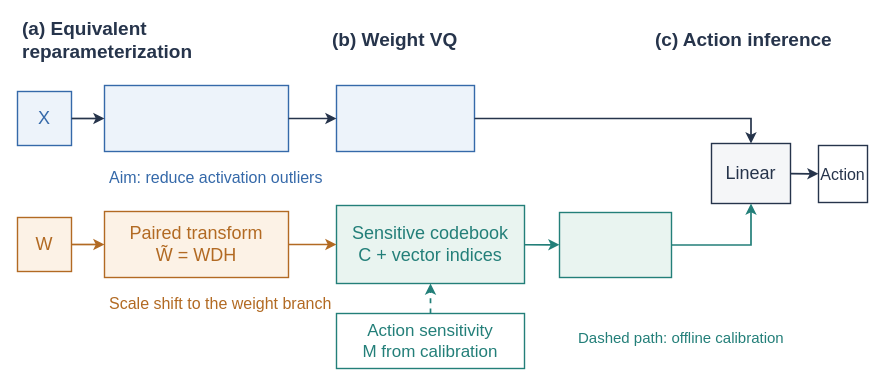
This 886x386 diagram has some shape labels left out. Here are the shapes that lost their labels. From the top down, the box of each, then its label:
(103, 84, 289, 152): Scale + Hadamard X̃ = XD⁻¹H
(335, 84, 475, 152): BF16 first A8 / A4 later
(558, 211, 672, 278): Reconstruct Ŵ
